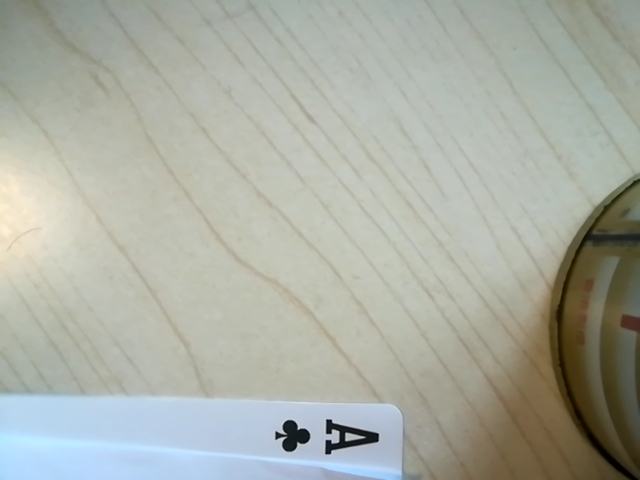mh a: (264, 405, 399, 470)
